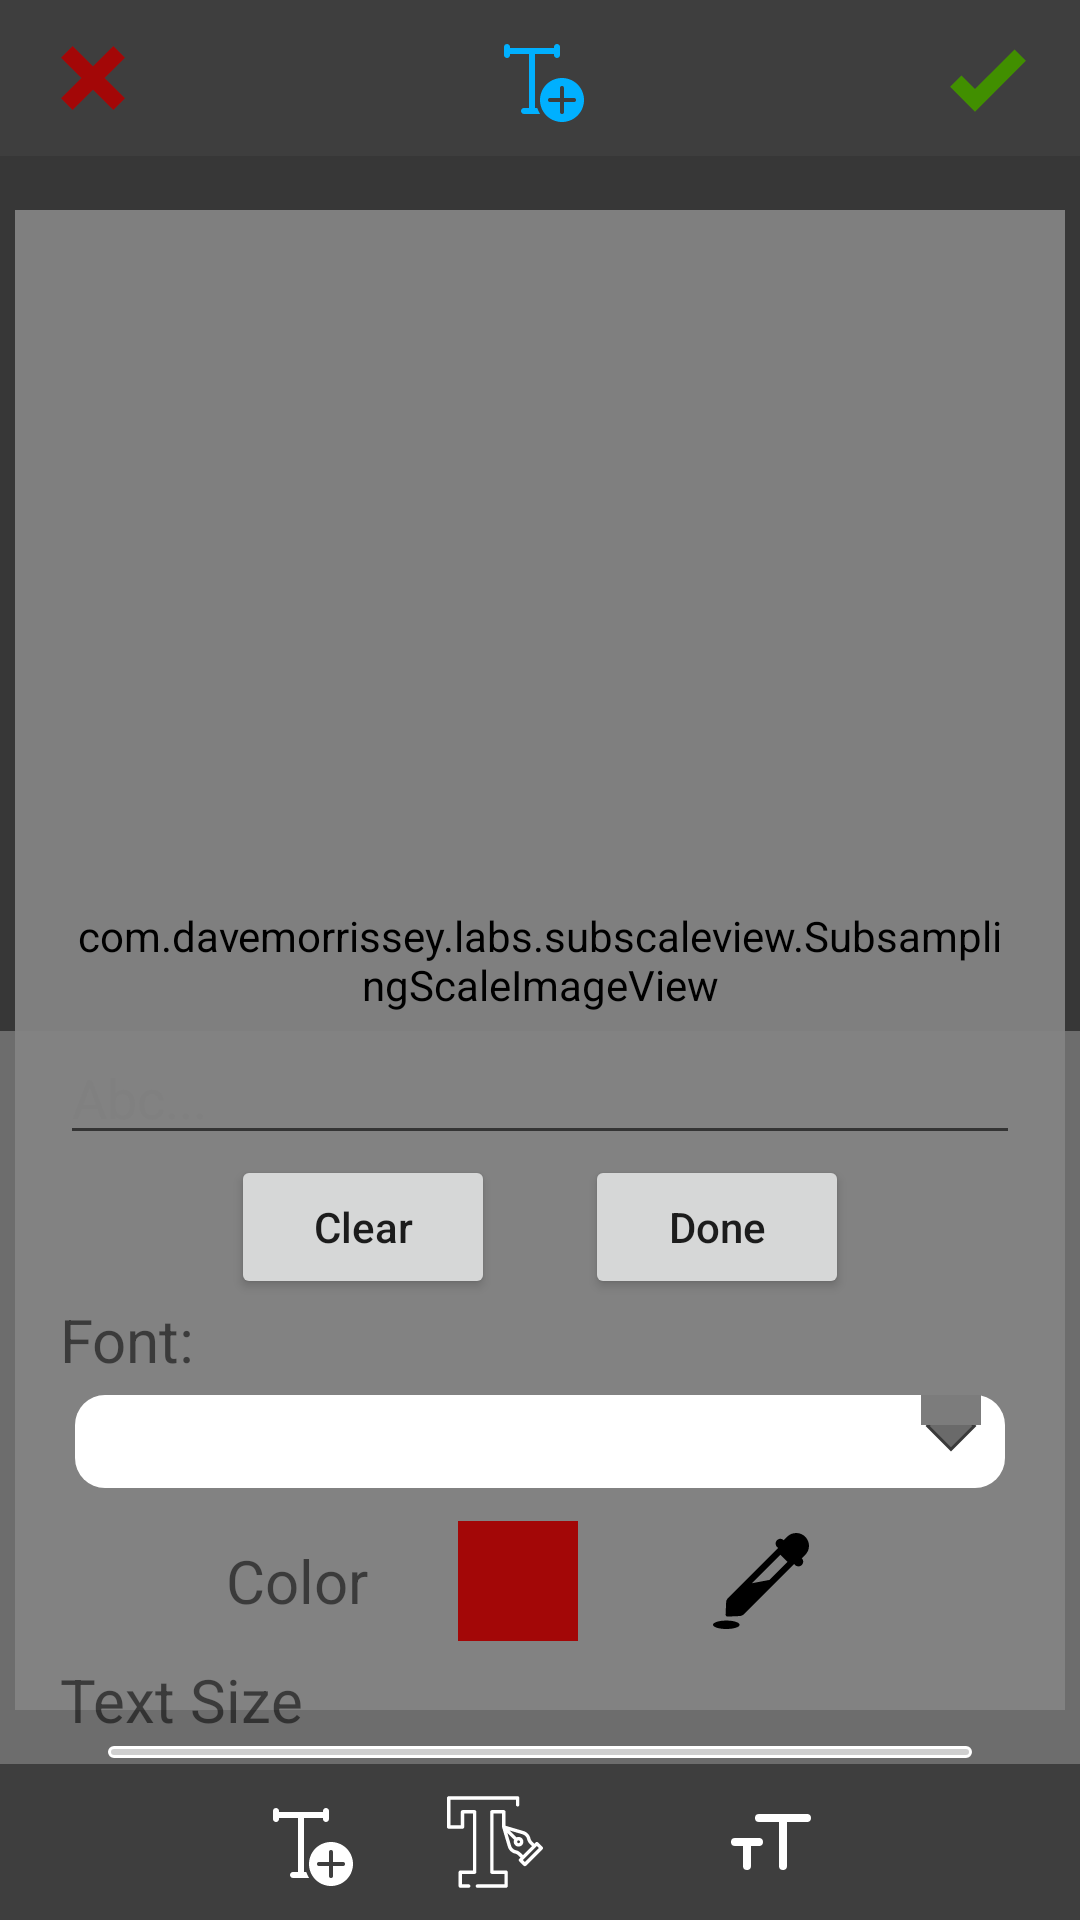

Named icons in this screenshot (1080x1920) and their bounding boxes, (x1, y1, x2, y2):
check: (950, 50, 1026, 111)
close thick: (61, 46, 125, 110)
picker: (713, 1533, 809, 1629)
text add: (504, 44, 584, 122), (273, 1808, 353, 1886)
text font: (447, 1796, 543, 1888)
